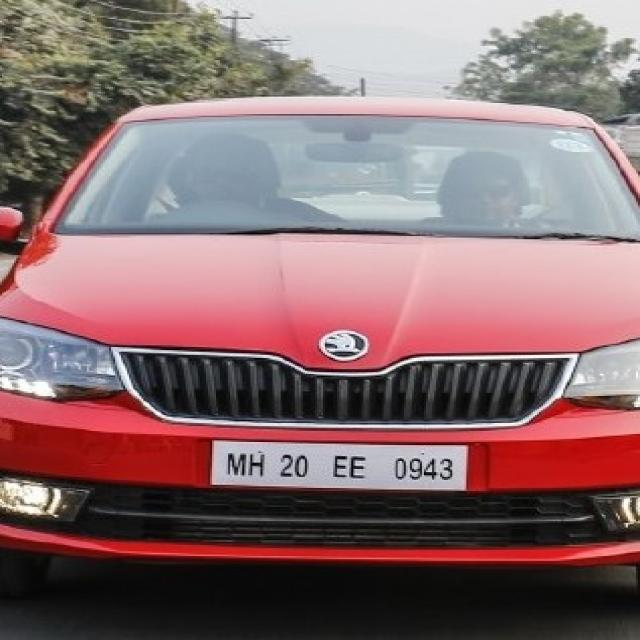license-plate: (208, 440, 464, 493)
